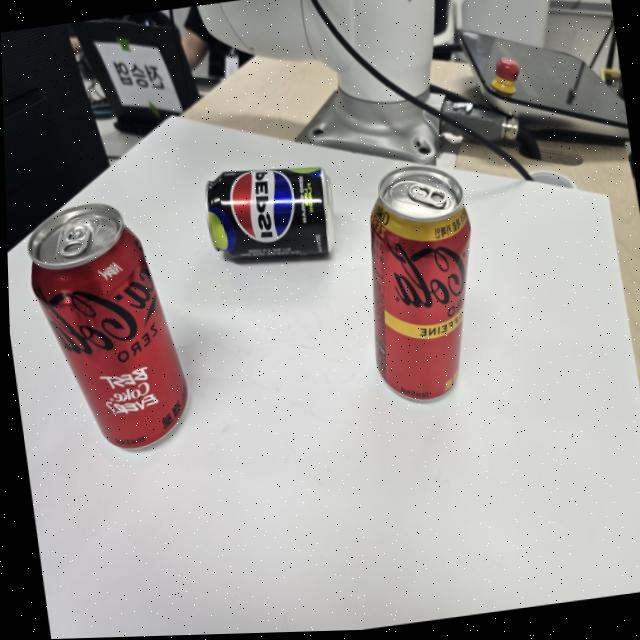can_coke_decaf: (368, 163, 470, 407)
can_coke_zero: (26, 204, 193, 453)
can_pepsi_zero: (202, 165, 337, 262)
